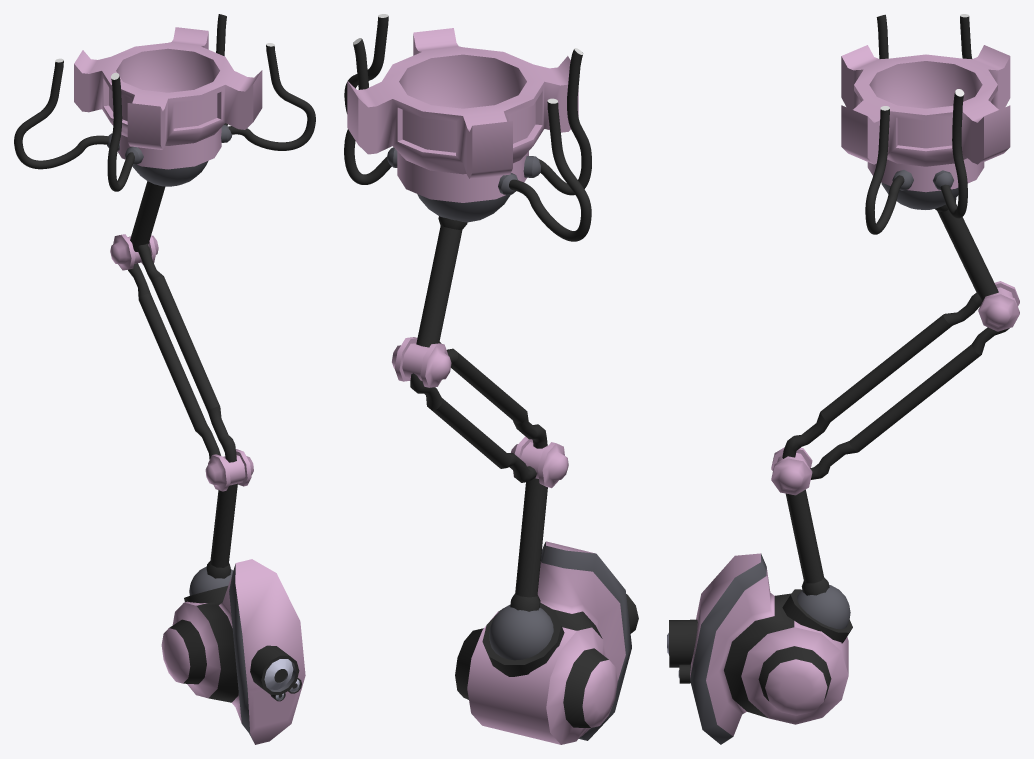
3 views of the same model, side by side, from view 1: azimuth 30°, elevation 25°; view 2: azimuth 150°, elevation 25°; view 3: azimuth 270°, elevation 25° (orthographic). The views are drawn at different scales.
Visible parts, largest first — view 1: Tube_2, Head, Cylinder_1, Cylinder_2, Sweep_NURBS, Oog_1, Cylinder, Sweep_NURBS_2, Oil_Tank, Sweep_NURBS_1, Cylinder_3, Sphere_1 (+2 smaller); view 2: Tube_2, Head, Cylinder, Cylinder_3, Sphere, Sweep_NURBS, Cylinder_2, Cylinder_1, Oil_Tank_1, Sweep_NURBS_1, Oil_Tank, Tube (+4 smaller); view 3: Head, Tube_2, Cylinder_1, Cylinder_2, Cylinder, Cylinder_3, Sweep_NURBS_2, Sweep_NURBS_3, Oil_Tank, Sphere, Oil_Tank_1, Oog_1 (+2 smaller).
Part boxes in pixels (x1,y1,x2,y2): Tube_2: (74,27,262,169); Head: (161,559,305,744); Cylinder_1: (137,243,236,462); Cylinder_2: (128,263,220,459); Sweep_NURBS: (14,60,109,169); Oog_1: (250,645,299,695); Cylinder: (206,483,237,578); Sweep_NURBS_2: (228,45,315,150); Oil_Tank: (205,449,253,491); Sweep_NURBS_1: (107,76,134,191); Cylinder_3: (130,181,165,251); Sphere_1: (132,161,208,186); Tube_2: (347,28,578,202); Head: (455,541,631,744); Cylinder: (510,478,547,611); Cylinder_3: (416,216,467,347); Sphere: (489,604,553,660); Sweep_NURBS: (509,101,591,241); Cylinder_2: (410,373,536,482); Cylinder_1: (439,342,547,448); Oil_Tank_1: (392,337,451,387); Sweep_NURBS_1: (538,49,591,195); Oil_Tank: (511,436,568,488); Tube: (482,602,564,676); Head: (690,553,848,744); Tube_2: (841,45,1010,192); Cylinder_1: (782,292,982,458); Cylinder_2: (810,327,1009,479); Cylinder: (785,489,829,595); Cylinder_3: (935,198,998,301); Sweep_NURBS_2: (865,109,904,234); Sweep_NURBS_3: (940,92,967,218); Oil_Tank: (771,447,812,495); Sphere: (797,584,850,629); Oil_Tank_1: (978,281,1019,331); Oog_1: (667,619,697,667).
Size of the model in its own units: 51.89 by 125 by 58.24.
